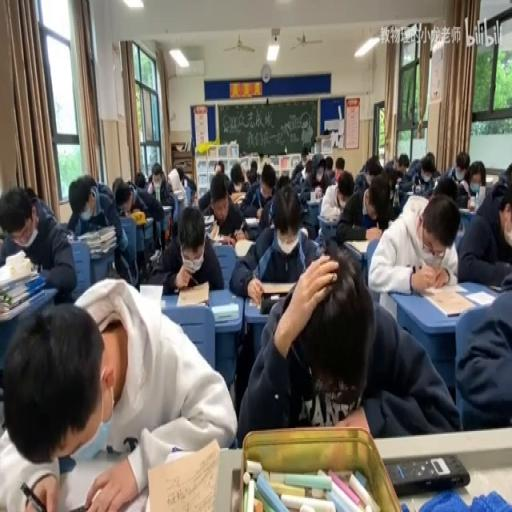calculator: (146, 436, 222, 510), (54, 450, 142, 509), (420, 286, 477, 314), (0, 287, 45, 320), (176, 279, 208, 307), (210, 300, 238, 322), (139, 282, 165, 304), (259, 279, 297, 294), (474, 181, 500, 202), (345, 238, 371, 253), (233, 238, 254, 256), (127, 209, 146, 225), (229, 189, 245, 205), (214, 233, 234, 245), (202, 216, 214, 235), (172, 186, 186, 202), (306, 195, 320, 209), (244, 215, 260, 226), (149, 248, 159, 263), (246, 297, 260, 307), (458, 205, 473, 212), (144, 216, 154, 225), (485, 174, 494, 184), (404, 189, 414, 196), (162, 204, 171, 210)
paper: (5, 276, 233, 508), (239, 240, 456, 442), (230, 182, 318, 297), (0, 183, 78, 306), (454, 266, 512, 429), (68, 174, 134, 290), (150, 200, 222, 294), (455, 174, 512, 290), (338, 169, 391, 245), (404, 150, 439, 198), (299, 152, 332, 199), (146, 162, 175, 212), (445, 150, 470, 188), (226, 161, 248, 193), (432, 175, 458, 200), (467, 160, 486, 190), (260, 165, 276, 198), (384, 168, 401, 195), (364, 158, 382, 183), (497, 162, 512, 189), (396, 151, 410, 175), (290, 160, 304, 184), (182, 176, 196, 198), (246, 158, 258, 183), (112, 176, 125, 199), (275, 174, 290, 190), (334, 156, 344, 180), (174, 165, 184, 185), (25, 184, 37, 200), (134, 171, 146, 186), (213, 160, 223, 174), (324, 155, 333, 169), (304, 158, 311, 175), (301, 148, 308, 162), (393, 156, 399, 170)
person: (386, 452, 470, 494), (261, 294, 288, 313), (488, 283, 504, 292)
